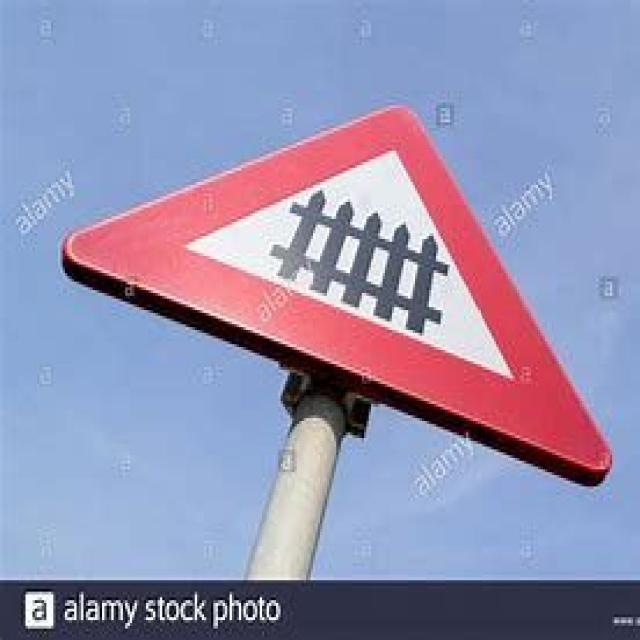guarded level crossing: (37, 59, 622, 510)
